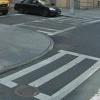Crosswalk: (17, 44, 91, 100)
